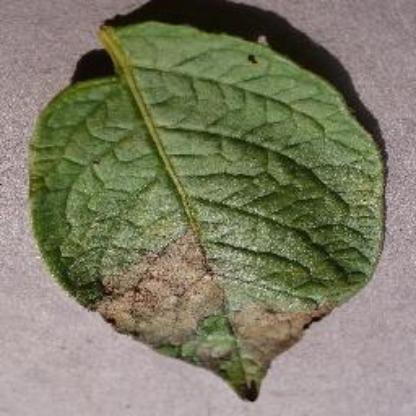Late-Blight: (27, 10, 398, 408)
